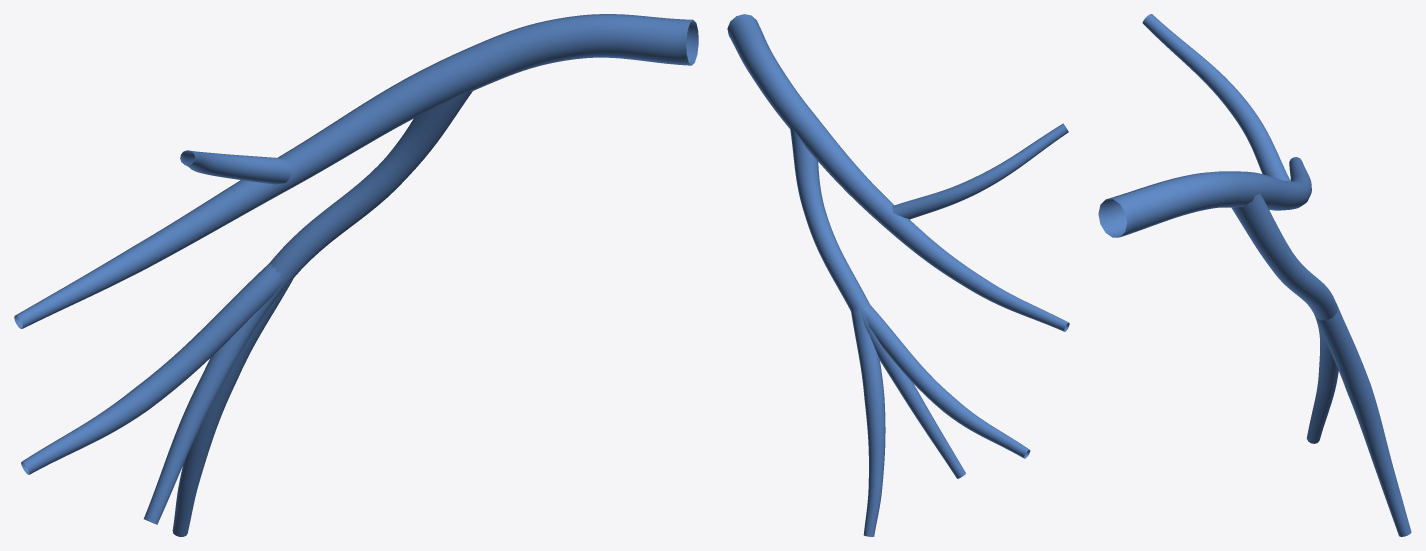
3 views of the same model, side by side, from view 1: azimuth 30°, elevation 25°; view 2: azimuth 150°, elevation 25°; view 3: azimuth 270°, elevation 25° (orthographic). The views are drawn at different scales.
Visible parts, largest first — view 1: 右肺外侧静脉; view 2: 右肺外侧静脉; view 3: 右肺外侧静脉.
Boxes of the visible parts, box(x1,y1,x2,y2) form: 右肺外侧静脉: box(14, 14, 698, 536); 右肺外侧静脉: box(727, 14, 1069, 536); 右肺外侧静脉: box(1098, 14, 1411, 536).
Size of the model in its own units: 0.1301 by 0.1164 by 0.0681.
